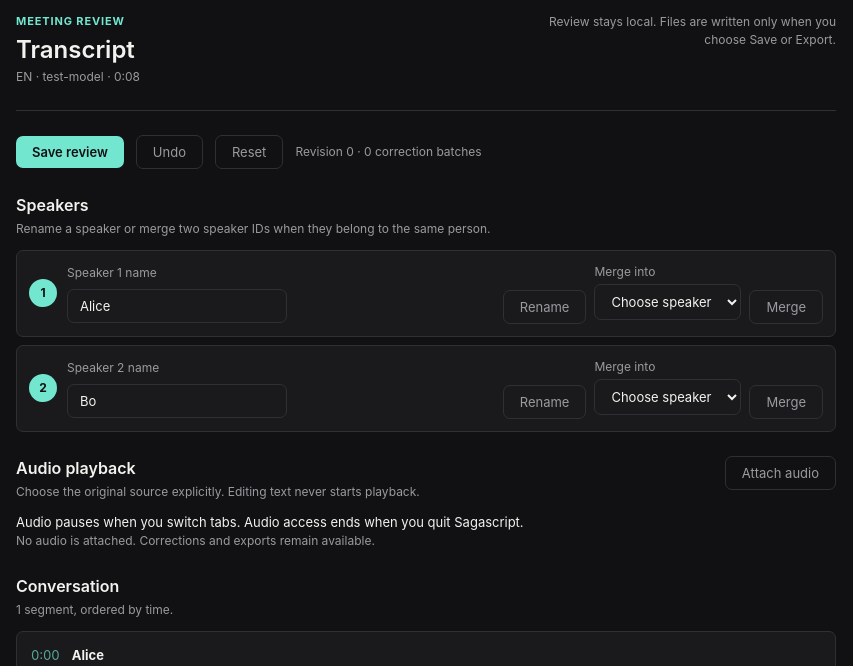
a rejected save shows its diagnostic and a later successful save recovers
The image size is (853, 666).
Click the button "Save review". click: (70, 152)
box: [16,136,124,168]
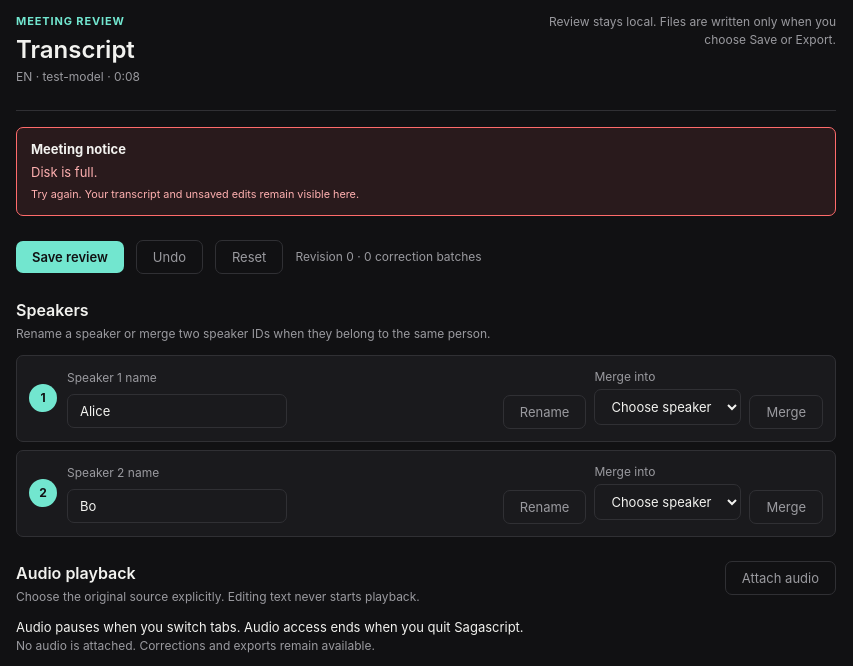
Expected: the text "Review saved." is not shown
Result: the message shows "Disk is full." at [31,164,97,180]
Click the button "Save review". click: (70, 257)
box: [16,241,124,273]
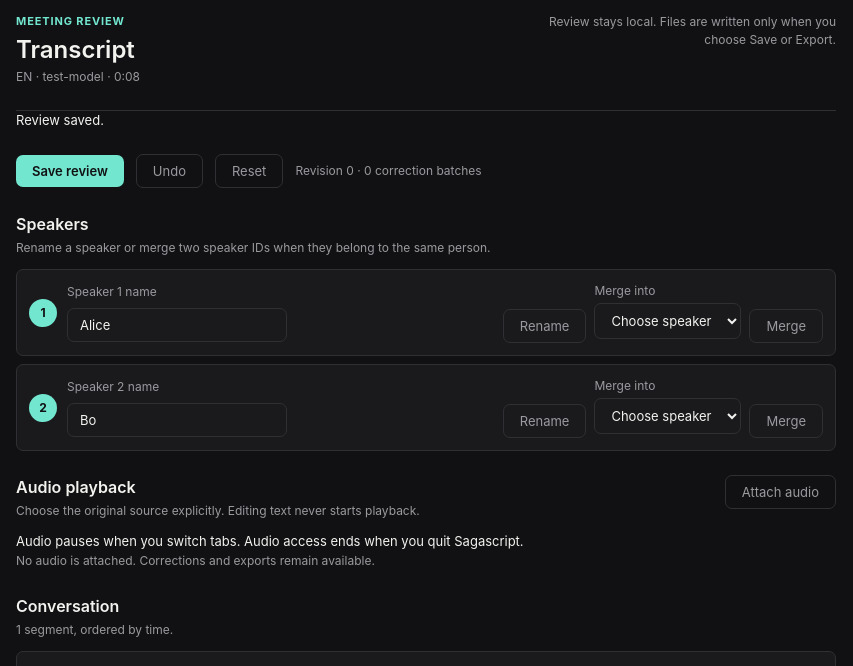
Result: the message reads "Review saved." at [16,112,104,128]
